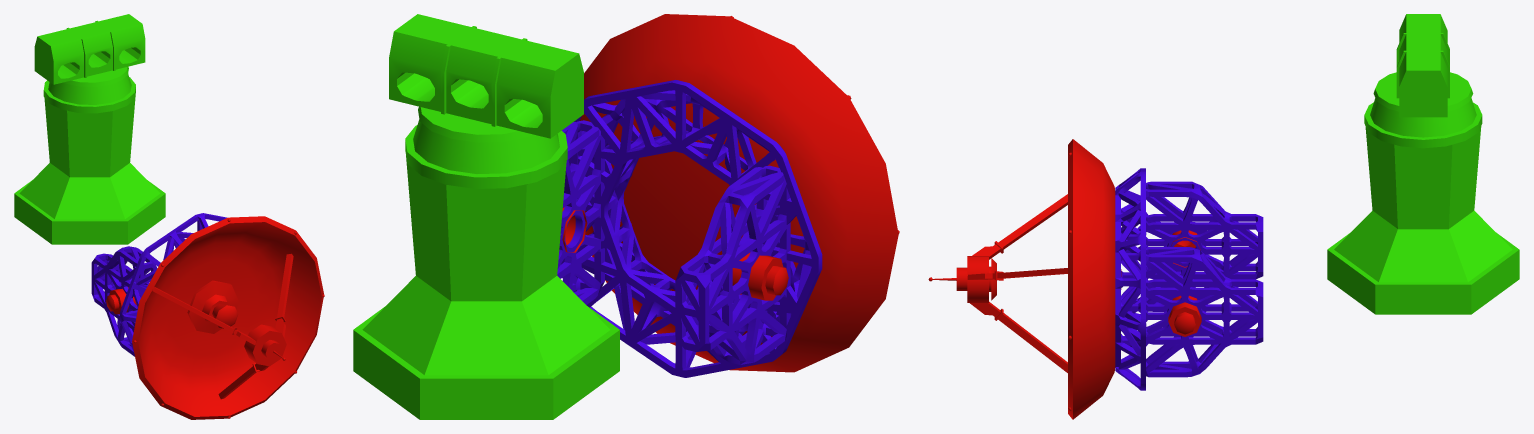
Rendered from Tile_Antenna.fbx.
3 views of the same model, side by side, from view 1: azimuth 30°, elevation 25°; view 2: azimuth 150°, elevation 25°; view 3: azimuth 270°, elevation 25° (orthographic). The views are drawn at different scales.
Parts seen in each view (by area): view 1: Cylinder.003, Cube.007, Cylinder; view 2: Cylinder.003, Cube.007, Cylinder; view 3: Cylinder.003, Cube.007, Cylinder.
Boxes of the visible parts, box(x1,y1,x2,y2) form: Cylinder.003: box(91, 213, 324, 419); Cube.007: box(14, 96, 165, 244); Cylinder: box(34, 14, 145, 113); Cylinder.003: box(557, 14, 899, 377); Cube.007: box(353, 156, 619, 419); Cylinder: box(389, 14, 583, 188); Cylinder.003: box(928, 139, 1263, 419); Cube.007: box(1327, 126, 1519, 314); Cylinder: box(1364, 14, 1482, 148).
Bounding box in the file's own units: 1.46 × 2.09 × 3.07.
